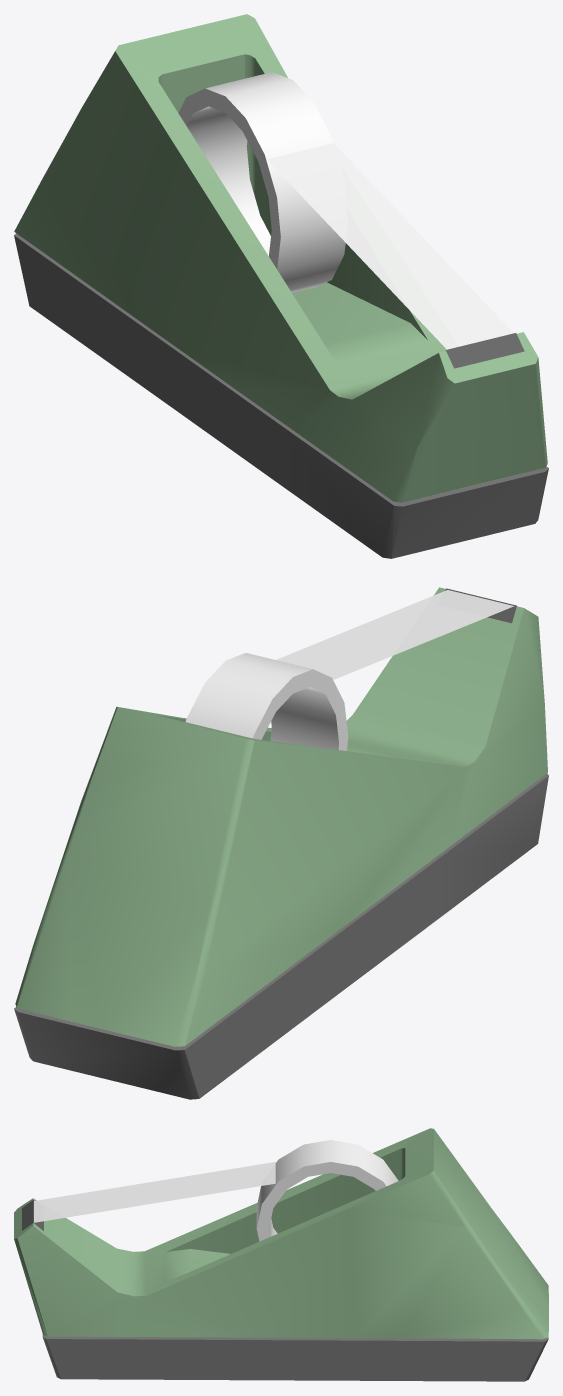
File: Accesorio Para Cinta.glb
3 renders of one model, top to bottom at view 1: azimuth 30°, elevation 25°; view 2: azimuth 150°, elevation 25°; view 3: azimuth 270°, elevation 25°, orthographic. The views are drawn at different scales.
Parts seen in each view (by area): view 1: 1a9fdb8a-2596-433b-9d46-c0ce4909ac94, e4c4f1b0-9359-4701-b4ff-a19786d4f9a1, ebff1e5c-b6d3-4c7d-b77c-93927707b416, 945d80ca-b9a2-4f3f-b7fa-bbe0e9d29d28, 945d80ca-b9a2-4f3f-b7fa-bbe0e9d29d29, c33701f9-22d4-4ca4-b119-6fdb57fca85f; view 2: 1a9fdb8a-2596-433b-9d46-c0ce4909ac94, e4c4f1b0-9359-4701-b4ff-a19786d4f9a1, ebff1e5c-b6d3-4c7d-b77c-93927707b416, 945d80ca-b9a2-4f3f-b7fa-bbe0e9d29d28, 945d80ca-b9a2-4f3f-b7fa-bbe0e9d29d29; view 3: 1a9fdb8a-2596-433b-9d46-c0ce4909ac94, e4c4f1b0-9359-4701-b4ff-a19786d4f9a1, 945d80ca-b9a2-4f3f-b7fa-bbe0e9d29d28, 945d80ca-b9a2-4f3f-b7fa-bbe0e9d29d29, ebff1e5c-b6d3-4c7d-b77c-93927707b416, c33701f9-22d4-4ca4-b119-6fdb57fca85f.
Boxes of the visible parts, left/top/right/bottom form: 1a9fdb8a-2596-433b-9d46-c0ce4909ac94: left=14, top=14, right=547, bottom=502; e4c4f1b0-9359-4701-b4ff-a19786d4f9a1: left=14, top=233, right=548, bottom=558; ebff1e5c-b6d3-4c7d-b77c-93927707b416: left=178, top=72, right=345, bottom=292; 945d80ca-b9a2-4f3f-b7fa-bbe0e9d29d28: left=267, top=143, right=513, bottom=349; 945d80ca-b9a2-4f3f-b7fa-bbe0e9d29d29: left=268, top=144, right=511, bottom=348; c33701f9-22d4-4ca4-b119-6fdb57fca85f: left=446, top=333, right=524, bottom=368; 1a9fdb8a-2596-433b-9d46-c0ce4909ac94: left=15, top=587, right=547, bottom=1046; e4c4f1b0-9359-4701-b4ff-a19786d4f9a1: left=14, top=773, right=548, bottom=1099; ebff1e5c-b6d3-4c7d-b77c-93927707b416: left=185, top=653, right=348, bottom=751; 945d80ca-b9a2-4f3f-b7fa-bbe0e9d29d28: left=276, top=590, right=514, bottom=679; 945d80ca-b9a2-4f3f-b7fa-bbe0e9d29d29: left=278, top=590, right=512, bottom=678; 1a9fdb8a-2596-433b-9d46-c0ce4909ac94: left=14, top=1128, right=548, bottom=1339; e4c4f1b0-9359-4701-b4ff-a19786d4f9a1: left=42, top=1334, right=548, bottom=1381; 945d80ca-b9a2-4f3f-b7fa-bbe0e9d29d28: left=34, top=1162, right=275, bottom=1222; 945d80ca-b9a2-4f3f-b7fa-bbe0e9d29d29: left=34, top=1162, right=274, bottom=1221; ebff1e5c-b6d3-4c7d-b77c-93927707b416: left=256, top=1140, right=398, bottom=1241; c33701f9-22d4-4ca4-b119-6fdb57fca85f: left=22, top=1200, right=43, bottom=1230.
Bounding box in the file's own units: 0.0536 × 0.0916 × 0.2173.
